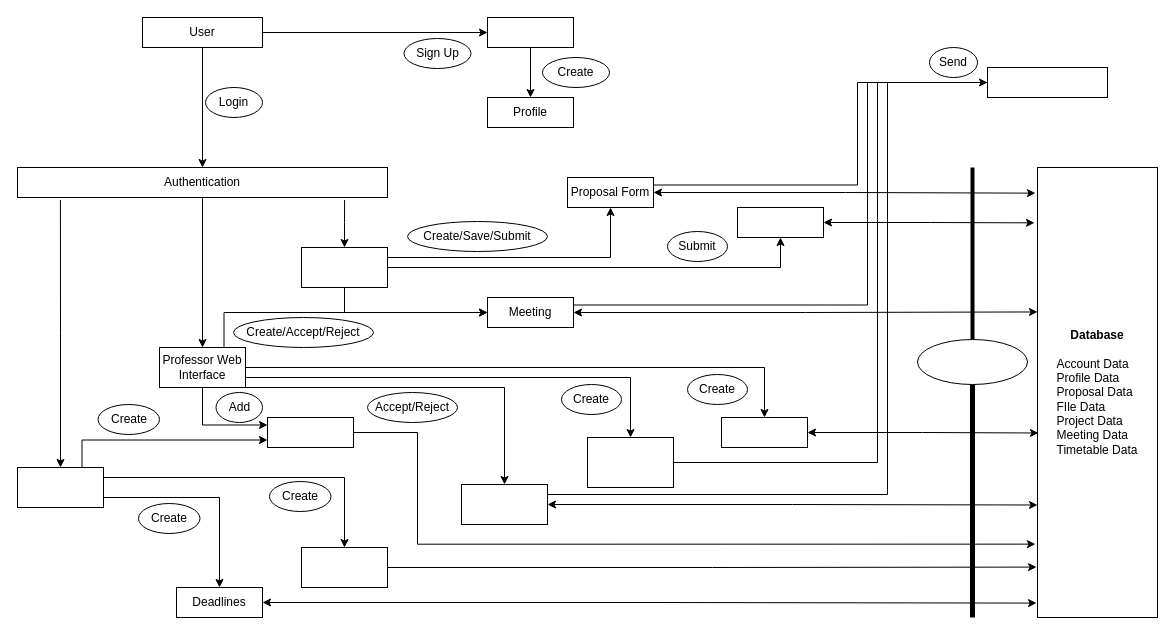
Some shapes in this 1175 by 638 pixel diagram are drawn without their labels. The box of each missing label's shape, as (x1, y1, x2, y2) in pixels:
Admin Web Interface: (16, 466, 104, 508)
Assign Projects: (300, 546, 388, 588)
Email: (986, 66, 1108, 98)
Files: (736, 206, 824, 238)
Marking: (720, 416, 808, 448)
Project Supervision Form: (586, 436, 674, 488)
Proposals Handling: (460, 484, 548, 524)
Registration: (486, 16, 574, 48)
Save and ReceiveData: (916, 338, 1028, 384)
Student Web Interface: (300, 246, 388, 288)
Timetable: (266, 416, 354, 448)
